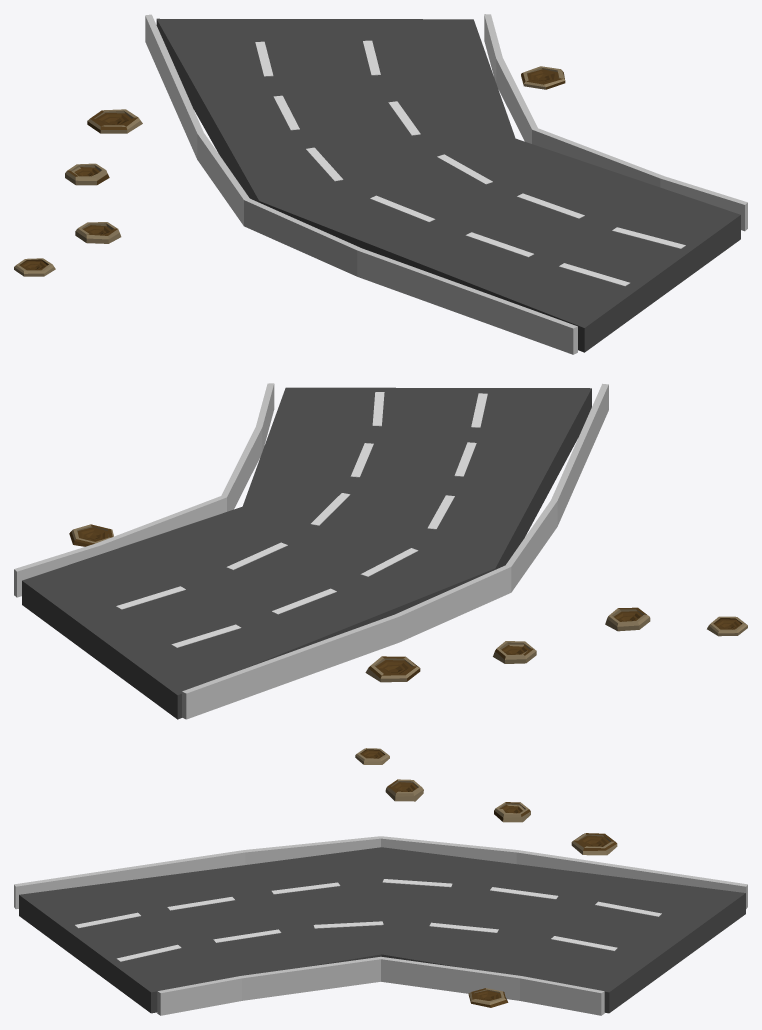
File: highway_02_6.fbx
3 renders of one model, top to bottom at view 1: azimuth 30°, elevation 25°; view 2: azimuth 150°, elevation 25°; view 3: azimuth 270°, elevation 25°, orthographic. The views are drawn at different scales.
Parts seen in each view (by area): view 1: autobahn02.006, leitPlankOutside.006, leitPlankInside.006, Cylinder.045, Cylinder.046, Cylinder.047, Cylinder.048, Cylinder.044; view 2: autobahn02.006, leitPlankOutside.006, leitPlankInside.006, Cylinder.045, Cylinder.047, Cylinder.048, Cylinder.046, Cylinder.044; view 3: autobahn02.006, leitPlankInside.006, leitPlankOutside.006, Cylinder.045, Cylinder.047, Cylinder.048, Cylinder.046, Cylinder.044.
Boxes of the visible parts, x1,y1,x2,y2 form: autobahn02.006: [156, 18, 740, 352]; leitPlankOutside.006: [145, 14, 577, 354]; leitPlankInside.006: [484, 14, 747, 231]; Cylinder.045: [87, 109, 142, 133]; Cylinder.046: [521, 66, 565, 89]; Cylinder.047: [75, 222, 121, 243]; Cylinder.048: [65, 163, 109, 185]; Cylinder.044: [14, 258, 55, 276]; autobahn02.006: [22, 387, 591, 719]; leitPlankOutside.006: [182, 383, 608, 719]; leitPlankInside.006: [14, 383, 274, 597]; Cylinder.045: [365, 656, 420, 682]; Cylinder.047: [605, 607, 650, 631]; Cylinder.048: [493, 641, 536, 663]; Cylinder.046: [69, 524, 113, 546]; Cylinder.044: [707, 616, 747, 636]; autobahn02.006: [19, 847, 745, 1013]; leitPlankInside.006: [157, 956, 604, 1015]; leitPlankOutside.006: [14, 836, 747, 909]; Cylinder.045: [571, 833, 617, 855]; Cylinder.047: [385, 779, 423, 801]; Cylinder.048: [494, 802, 530, 822]; Cylinder.046: [468, 988, 508, 1007]; Cylinder.044: [355, 748, 389, 764].
Size of the model in its own units: 89.78 by 4.16 by 108.
